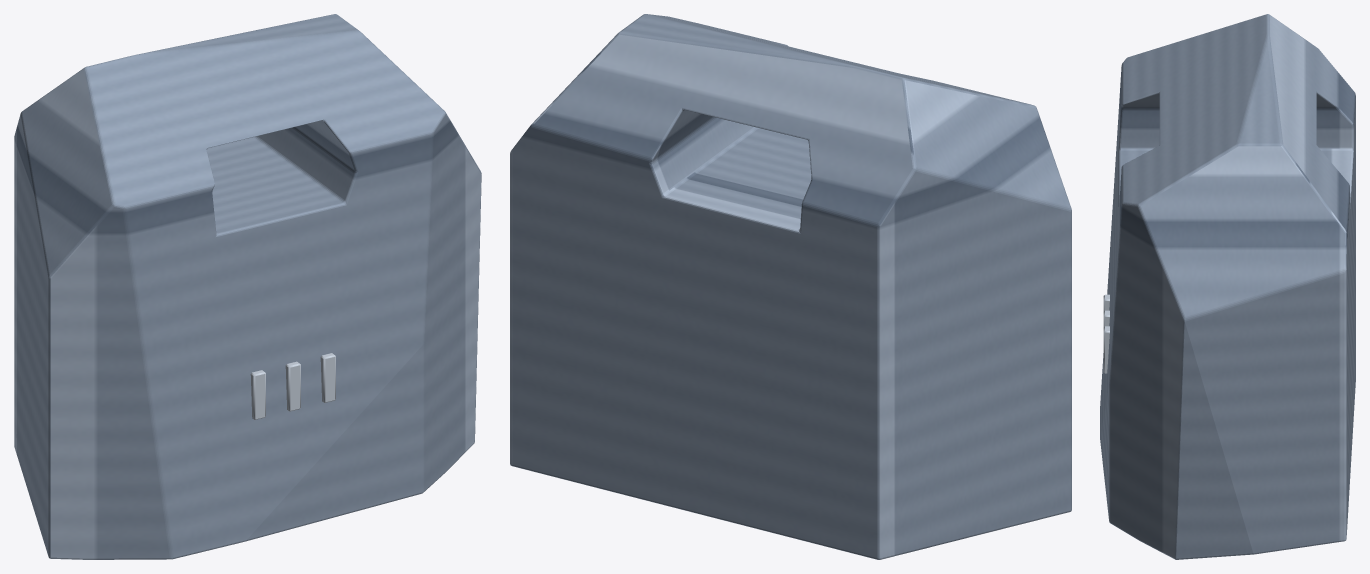
The model's file is adamant_weight.obj.
The picture shows the model from 3 angles, left to right: view 1: azimuth 30°, elevation 25°; view 2: azimuth 150°, elevation 25°; view 3: azimuth 270°, elevation 25°; orthographic projection. The views are drawn at different scales.
Visible parts, largest first — view 1: A_ShadowHull.001_adamant_weight_adamant, B_InlaidMassMark1.001_adamant_weight_weight_marks, B_InlaidMassMark2.001_adamant_weight_weight_marks, B_InlaidMassMark0.001_adamant_weight_weight_marks; view 2: A_ShadowHull.001_adamant_weight_adamant; view 3: A_ShadowHull.001_adamant_weight_adamant.
Boxes of the visible parts, <box> form: A_ShadowHull.001_adamant_weight_adamant: <box>14,14,481,559</box>; B_InlaidMassMark1.001_adamant_weight_weight_marks: <box>285,361,300,411</box>; B_InlaidMassMark2.001_adamant_weight_weight_marks: <box>320,353,335,402</box>; B_InlaidMassMark0.001_adamant_weight_weight_marks: <box>250,370,265,420</box>; A_ShadowHull.001_adamant_weight_adamant: <box>510,14,1071,559</box>; A_ShadowHull.001_adamant_weight_adamant: <box>1100,14,1355,559</box>.
Bounding box in the file's own units: 1.54 × 1.4 × 0.8188.
2 materials, 1 textured.
